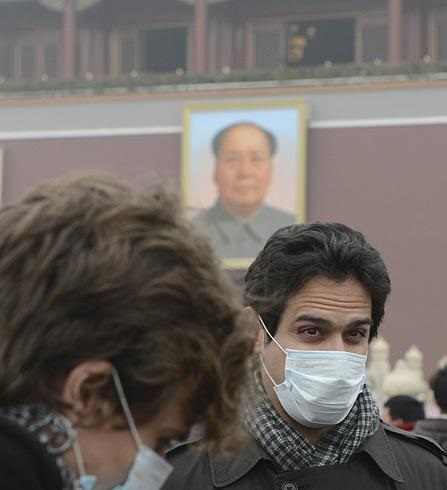face: (217, 131, 270, 204)
face_mask: (275, 278, 370, 420), (84, 370, 195, 489)
